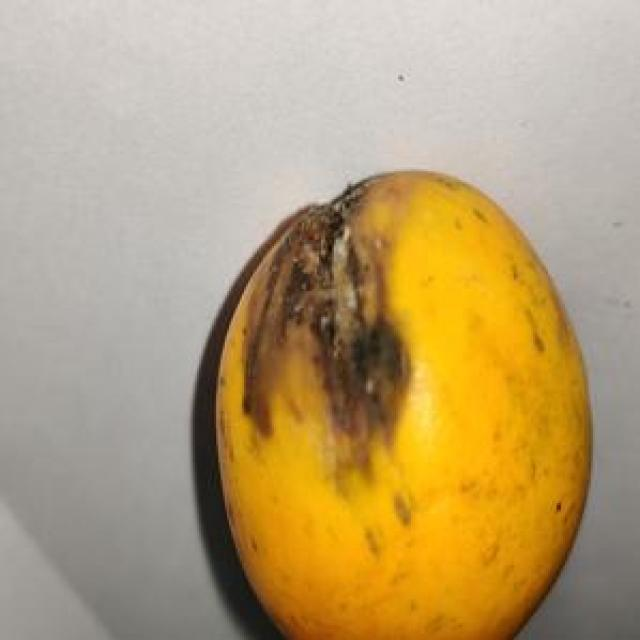damaged: (195, 171, 591, 638)
